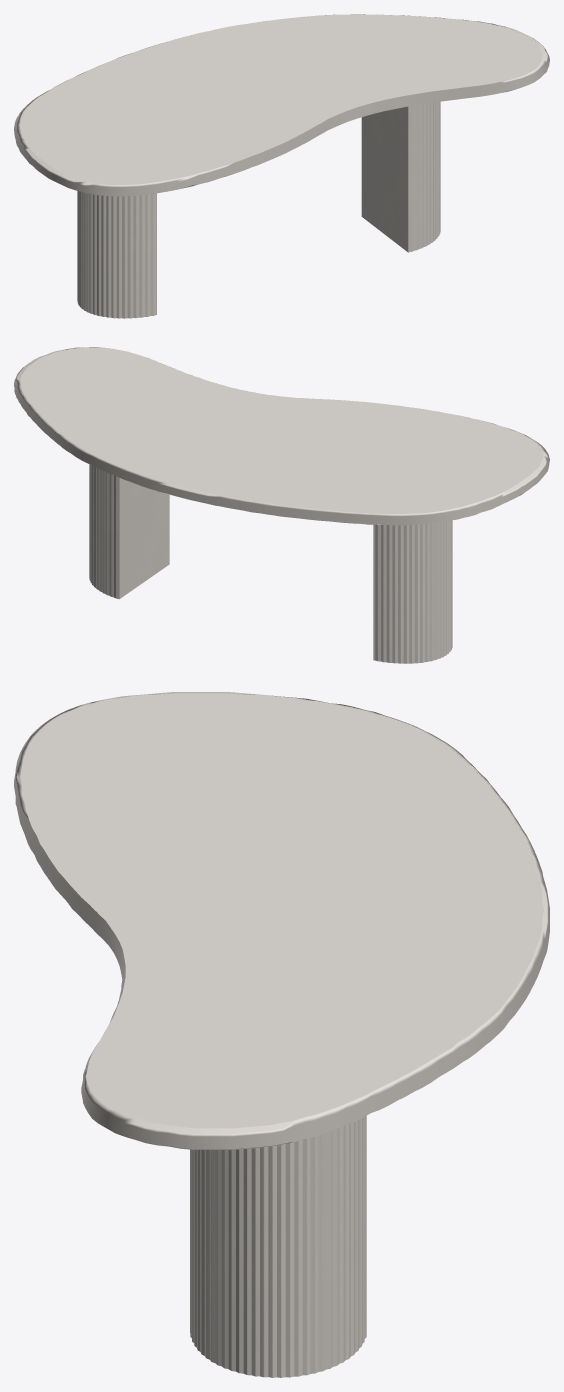
Rendered from pearlwhite_leaf1_round_flute.glb.
3 renders of one model, top to bottom at view 1: azimuth 30°, elevation 25°; view 2: azimuth 150°, elevation 25°; view 3: azimuth 270°, elevation 25°, orthographic. The views are drawn at different scales.
Visible parts, largest first — view 1: round_leaf1, flute; view 2: round_leaf1, flute; view 3: round_leaf1, flute.
Part boxes in pixels (left/top/right/bottom): round_leaf1: left=14, top=14, right=549, bottom=196; flute: left=77, top=101, right=440, bottom=318; round_leaf1: left=14, top=347, right=549, bottom=525; flute: left=89, top=464, right=452, bottom=663; round_leaf1: left=14, top=692, right=549, bottom=1149; flute: left=190, top=1116, right=366, bottom=1377.
Size of the model in its own units: 7.49 by 2.5 by 3.8.
Materials: 1 (1 with a texture image).
